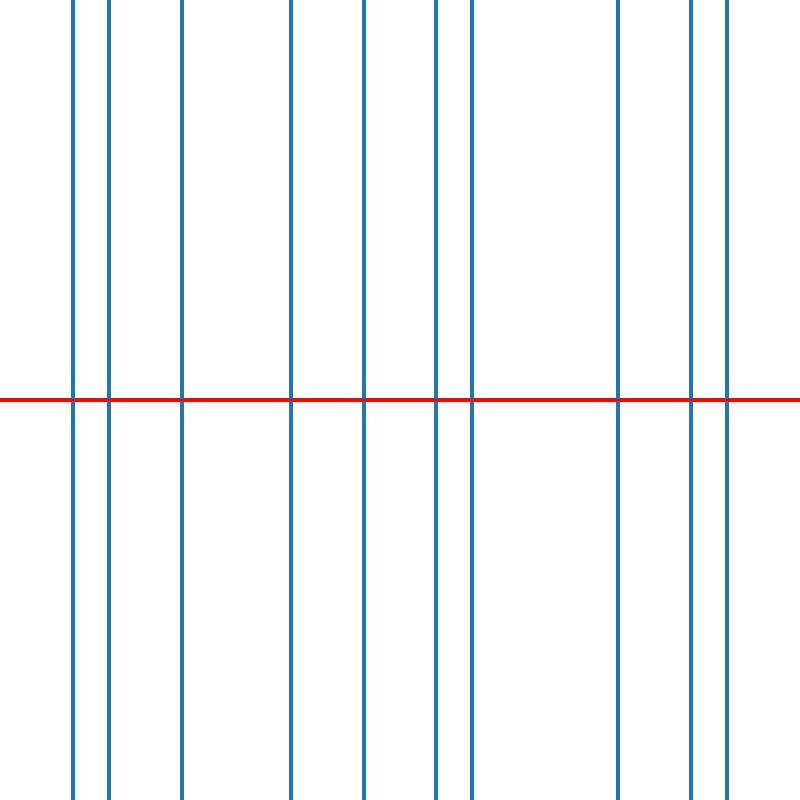root: (432, 396, 440, 404), (69, 396, 76, 404), (360, 396, 367, 404), (469, 396, 476, 404), (178, 396, 185, 404), (723, 396, 730, 404), (614, 396, 621, 404), (105, 396, 112, 404), (287, 396, 294, 404), (687, 396, 694, 404)
